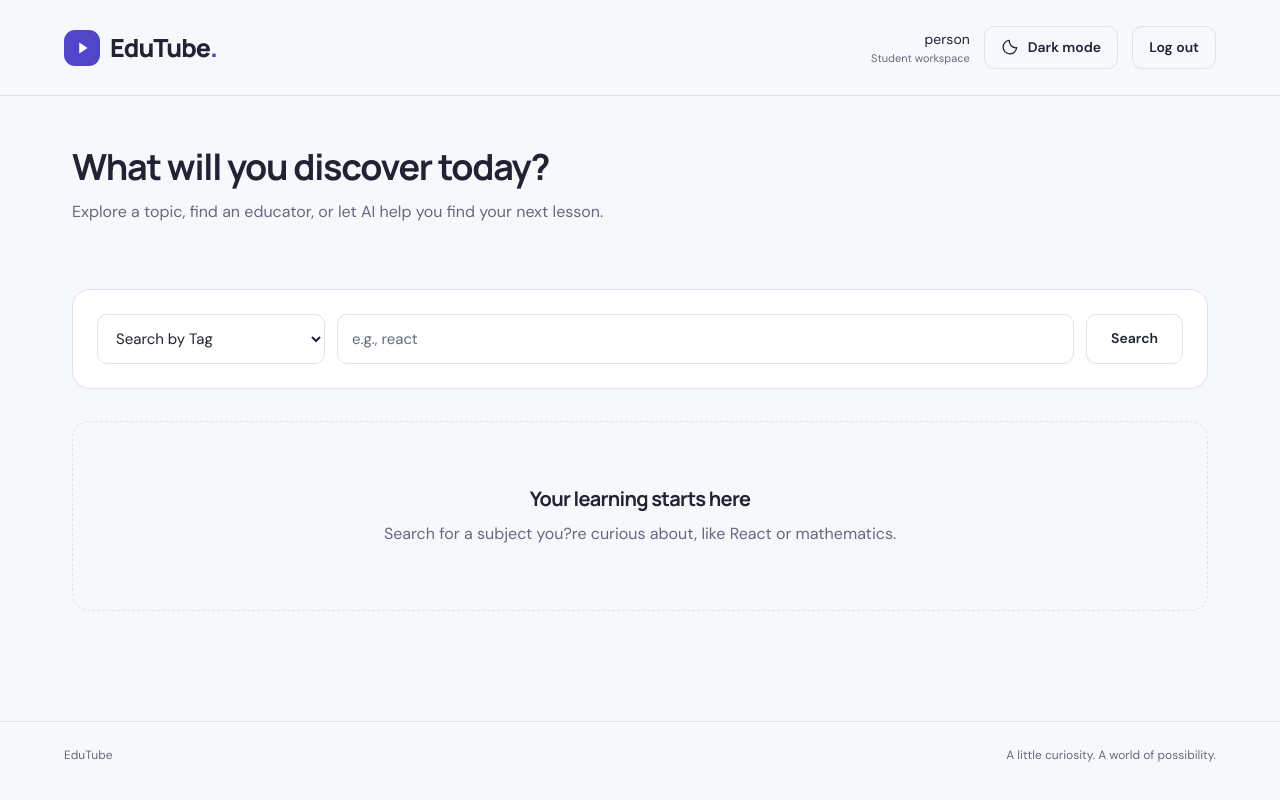
Test: restores student session and logs out
Expected: the heading "What will you discover today?" is shown, x1=72 y1=142 x2=549 y2=191
Click the button "Log out": (1174, 48) x1=1132 y1=26 x2=1216 y2=69
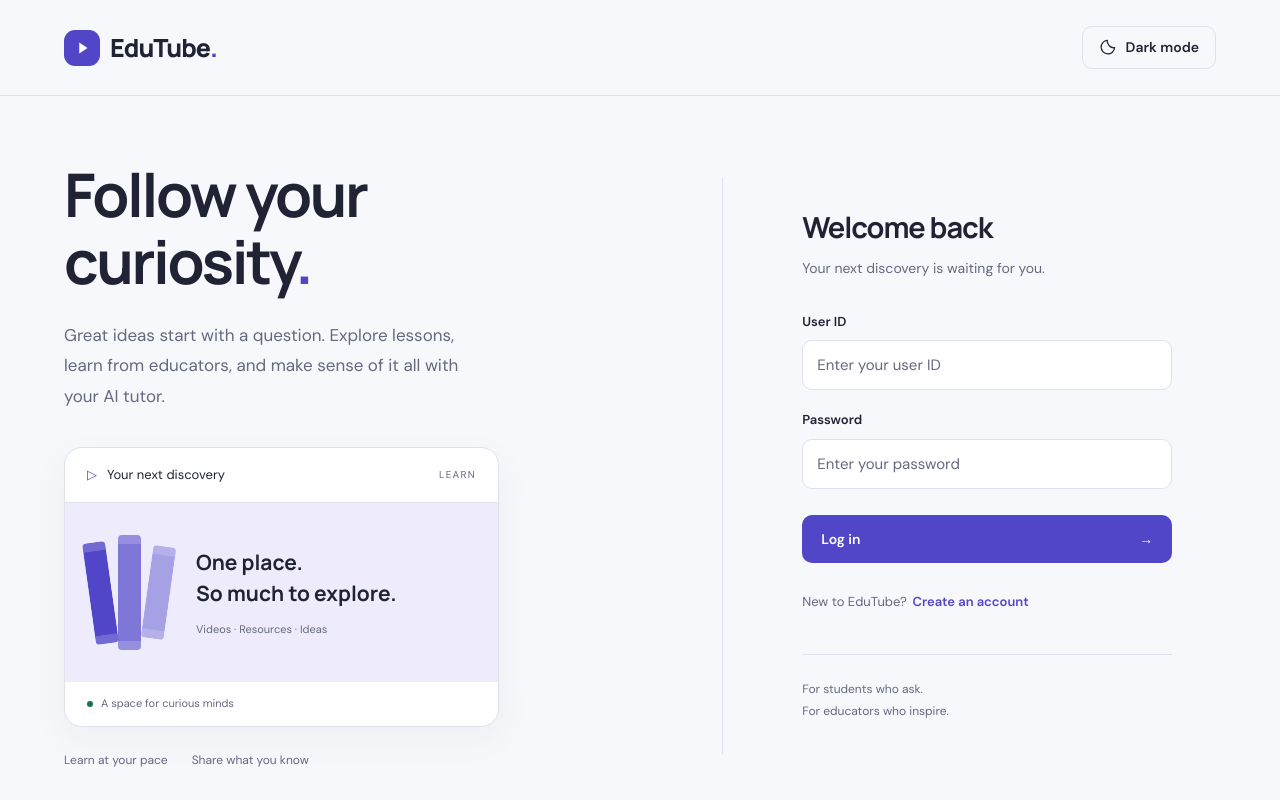
Expected: the heading "Welcome back" is shown, x1=802 y1=207 x2=992 y2=247
